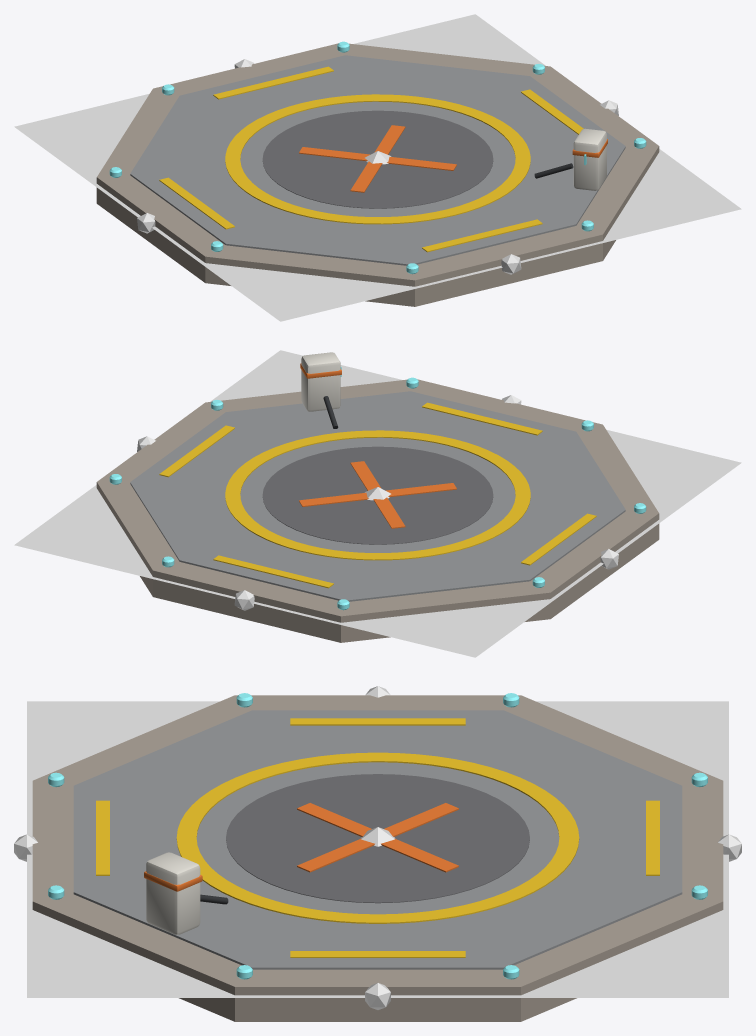
The model's file is landing_pad_3x3.gltf.
The picture shows the model from 3 angles, top to bottom: view 1: azimuth 30°, elevation 25°; view 2: azimuth 150°, elevation 25°; view 3: azimuth 270°, elevation 25°; orthographic projection. The views are drawn at different scales.
Visible parts, largest first — view 1: LandingPad, %P%Footprint; view 2: LandingPad, %P%Footprint; view 3: LandingPad, %P%Footprint, %P%AnchorOut.
Boxes of the visible parts, x1,y1,x2,y2 form: LandingPad: (96, 41, 659, 306); %P%Footprint: (14, 14, 741, 321); LandingPad: (96, 352, 659, 642); %P%Footprint: (14, 350, 741, 657); LandingPad: (32, 693, 723, 1021); %P%Footprint: (27, 701, 728, 997); %P%AnchorOut: (365, 983, 390, 1009).
Size of the model in its own units: 6.23 by 0.95 by 6.22.
